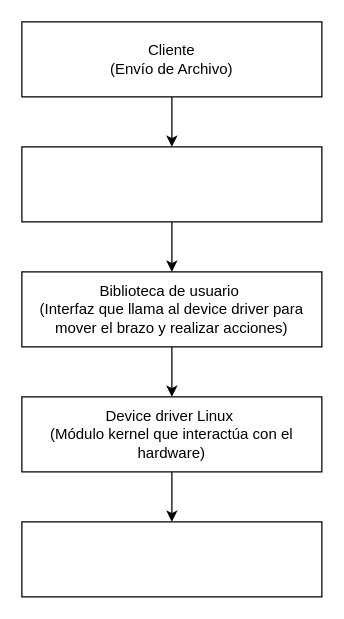
This 344x619 diagram has some shape labels left out. The shapes that lost their labels are listed below. From the top down, each one's centre as x and y in pixels, then its label:
At (171,184): "Servidor Distribuido (OpenMPI)".
At (171,559): "Hardware (Mano robótica con servos SG90 y Arduino Uno R3)".
